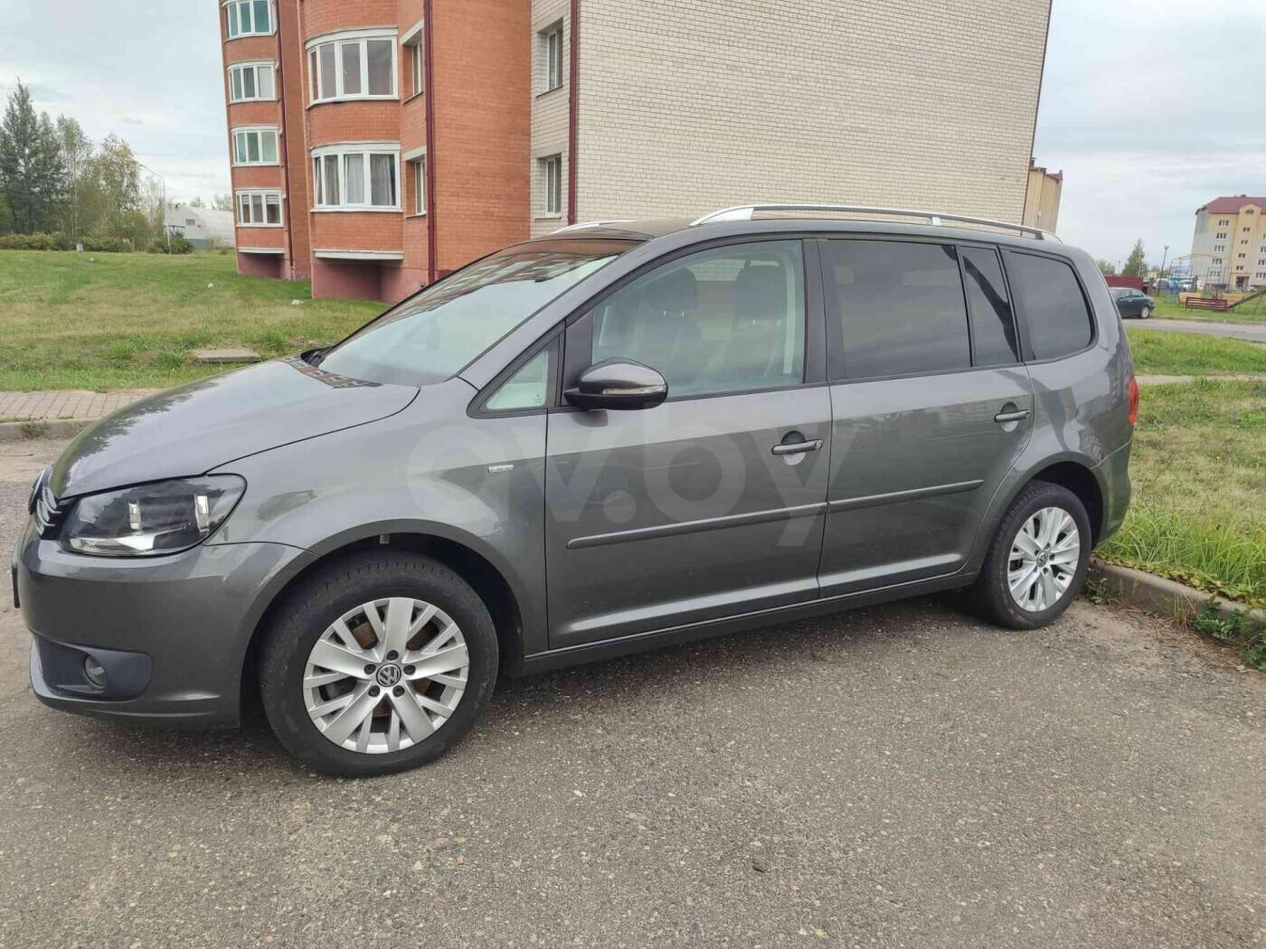Touran_2010-2015: (10, 201, 1141, 758)
